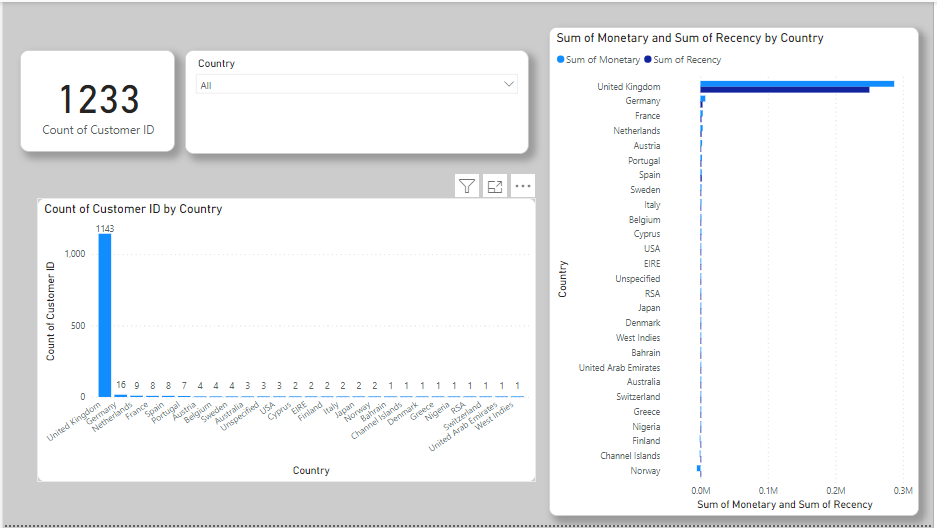

The dashboard page shown, as its layout file describes it:
{"tool":"powerbi","page":{"name":"Page 1","canvas":[1280,720],"ordinal":0},"visuals":[{"type":"columnChart","fields":{"Category":["Sheet1.Country"],"Y":["CountNonNull(Sheet1.Customer ID)"]},"box":[46.8,269.8,686.8,390.9],"z":0},{"type":"clusteredBarChart","fields":{"Y":["Sum(Sheet1.Monetary)","Sum(Sheet1.Recency)"],"Category":["Sheet1.Country"]},"box":[751.5,34.4,509.2,673],"z":1000},{"type":"card","fields":{"Values":["CountNonNull(Sheet1.Customer ID)"]},"box":[23.4,66.1,213.3,140.4],"z":2000},{"type":"slicer","fields":{"Values":["Sheet1.Country"]},"box":[250.5,66.1,473.5,143.1],"z":3000}]}

Visuals, with their boxes in screenshot pixels (x1, y1, x2, y2), scaled from the page's 1280x720 canvas onto the 937x528 screenshot:
columnChart - Sheet1.Country x CountNonNull(Sheet1.Customer ID): x1=34 y1=198 x2=537 y2=485
clusteredBarChart - Sum(Sheet1.Monetary) x Sum(Sheet1.Recency): x1=550 y1=25 x2=923 y2=519
card - CountNonNull(Sheet1.Customer ID): x1=17 y1=48 x2=173 y2=151
slicer - Sheet1.Country: x1=183 y1=48 x2=530 y2=153
